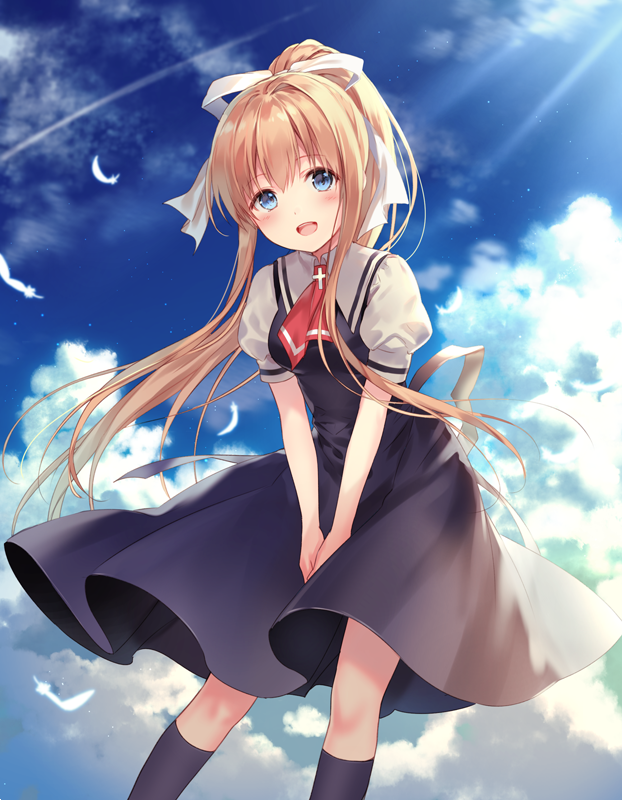纸片人正脸: (190, 51, 405, 268)
